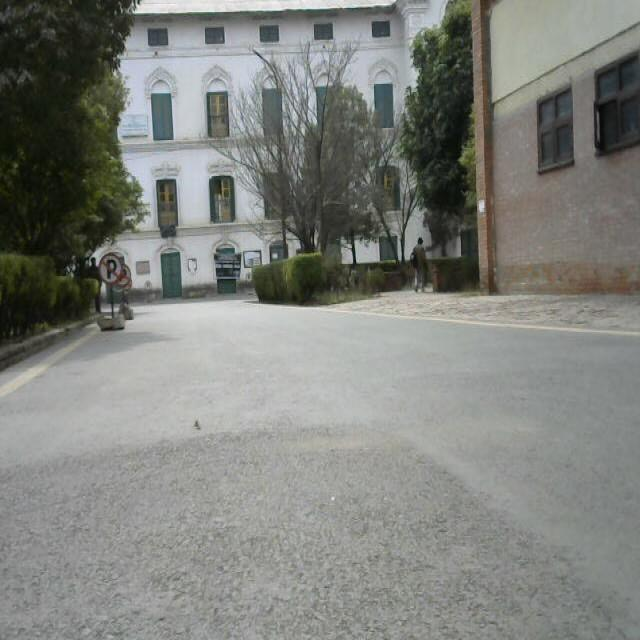Buildings: (129, 14, 391, 322), (465, 0, 640, 300)
NoParking: (98, 244, 124, 337), (120, 260, 136, 336)
Road: (0, 293, 640, 640)
trees: (0, 4, 128, 326), (227, 51, 391, 241), (412, 6, 494, 295), (408, 232, 426, 292)
